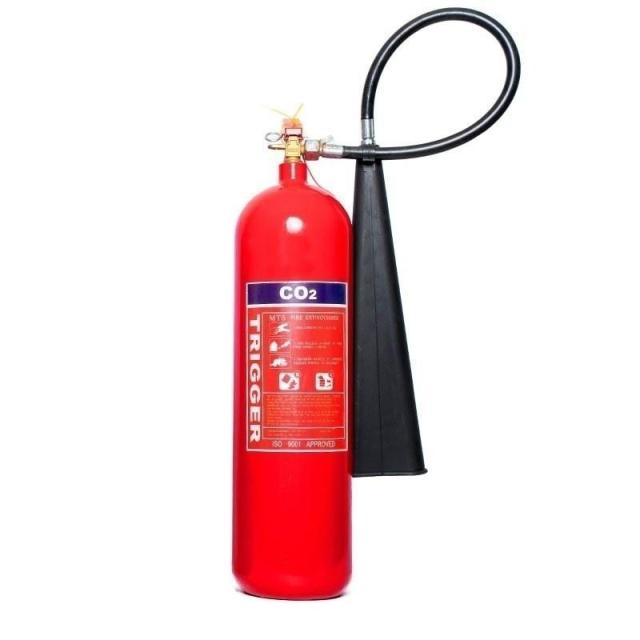fire_extinguisher: (225, 2, 528, 604)
